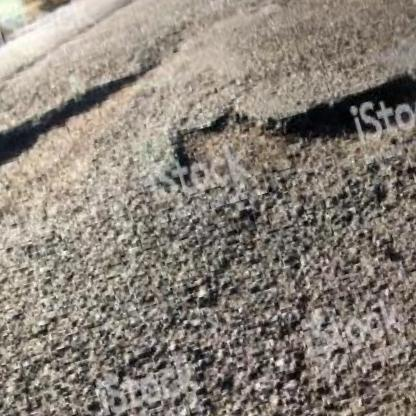pothole: (156, 28, 416, 216), (0, 53, 188, 265)
